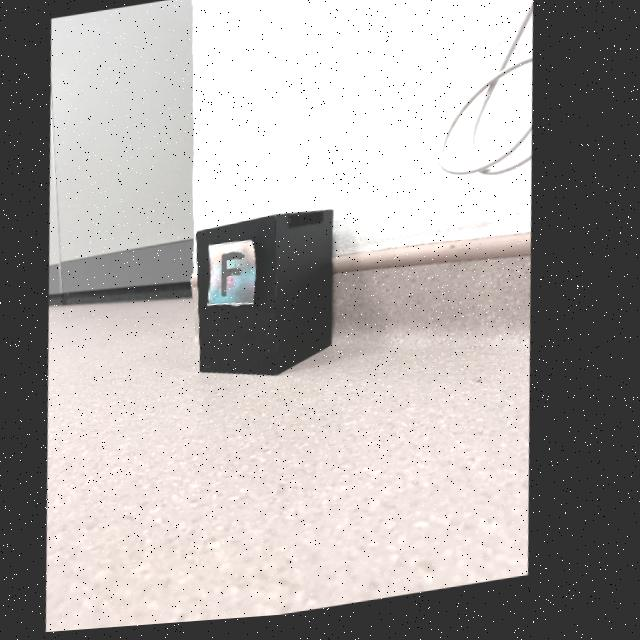F: (227, 255, 249, 301)
